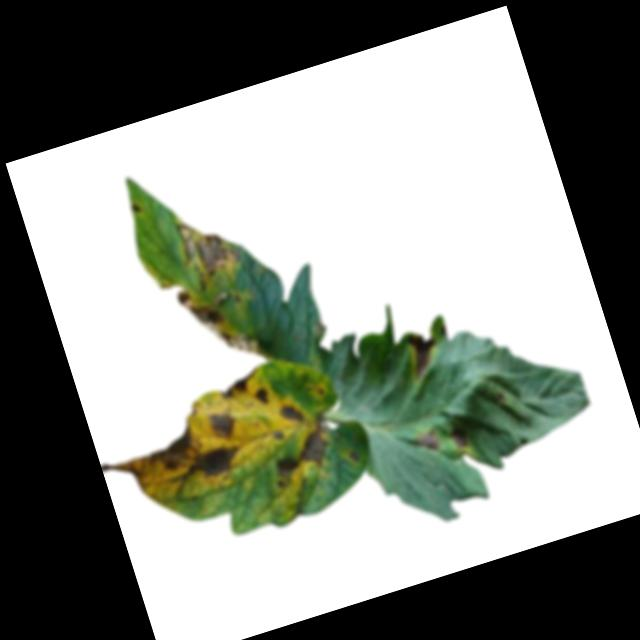Early_blight: (96, 410, 245, 511), (173, 269, 274, 380), (173, 209, 246, 294), (264, 421, 340, 490), (399, 324, 449, 385), (213, 364, 266, 401), (204, 404, 242, 443), (274, 399, 306, 430), (415, 428, 443, 456), (446, 426, 471, 455), (252, 386, 271, 409), (128, 200, 143, 220), (348, 449, 364, 465)
